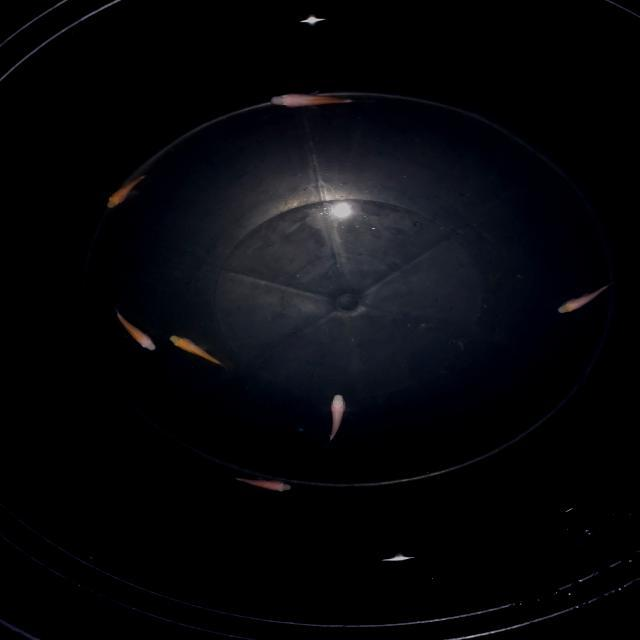nila: (554, 277, 628, 318), (259, 88, 374, 112), (169, 330, 232, 373), (108, 303, 160, 354), (102, 170, 160, 214), (218, 472, 296, 496), (324, 388, 349, 447)
